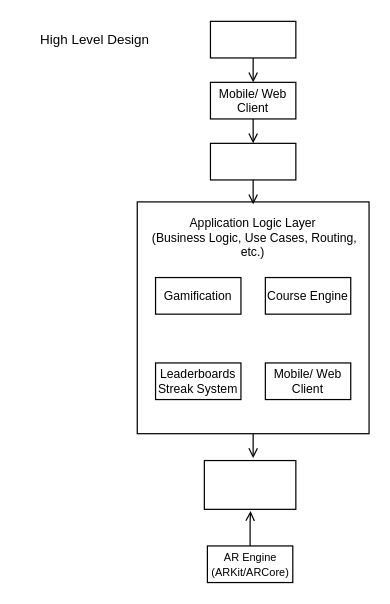
The diagram is 390 pixels wide and 604 high, and some of its shapes have lost their labels. Each missing label, with the centre of its shape:
"API getaway" goes at point (252, 161).
"Data Layer (PostgreSQL / MongoDB etc)" goes at point (249, 484).
"User (Student)" goes at point (252, 39).
